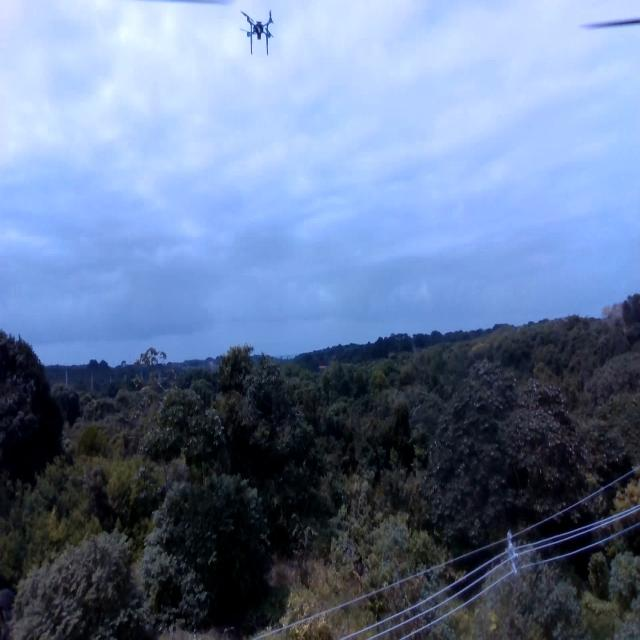-uav-: (231, 4, 283, 68)
